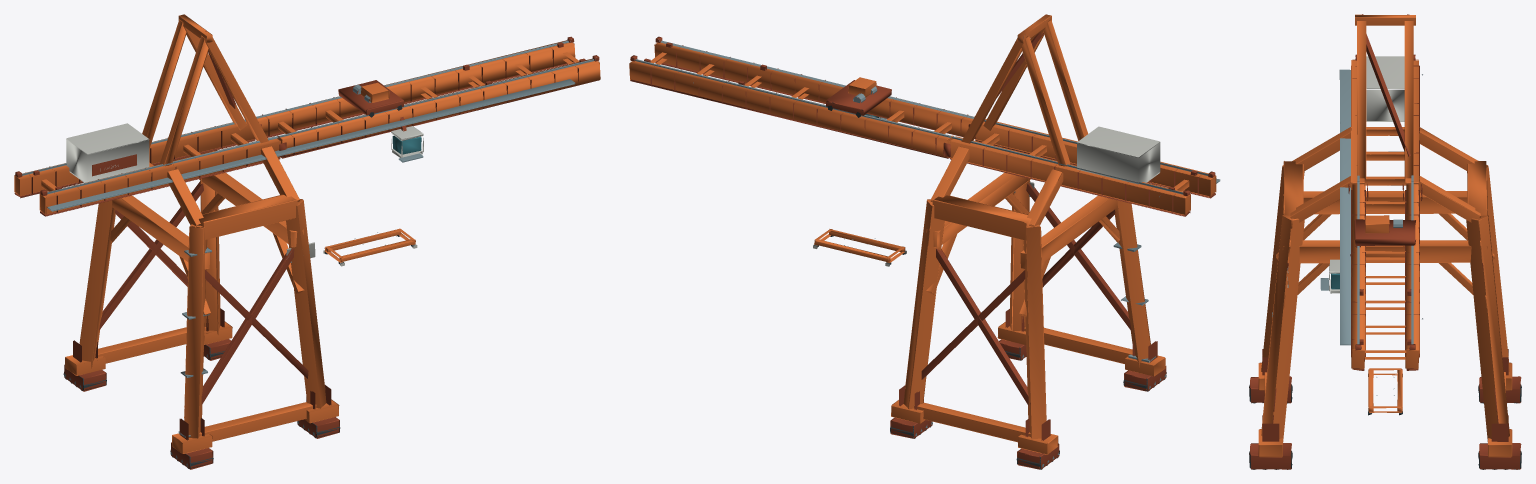
The model's file is crane-far.glb.
3 renders of one model, left to right at view 1: azimuth 30°, elevation 25°; view 2: azimuth 150°, elevation 25°; view 3: azimuth 270°, elevation 25°, orthographic. The views are drawn at different scales.
Visible parts, largest first — view 1: Harborline STS 04; view 2: Harborline STS 04; view 3: Harborline STS 04.
Part boxes in pixels (x1=…): Harborline STS 04: x1=14, y1=14, x2=600, y2=469; Harborline STS 04: x1=629, y1=14, x2=1220, y2=469; Harborline STS 04: x1=1249, y1=14, x2=1521, y2=469.
Size of the model in its own units: 46.99 by 31 by 18.56.
